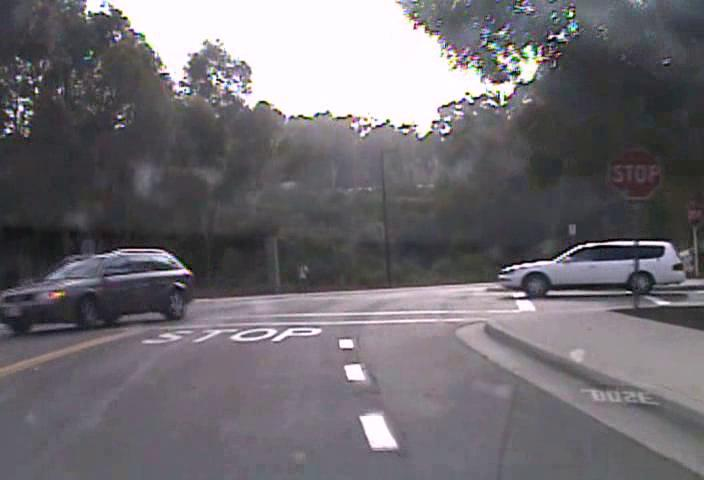stop: (607, 147, 662, 201)
